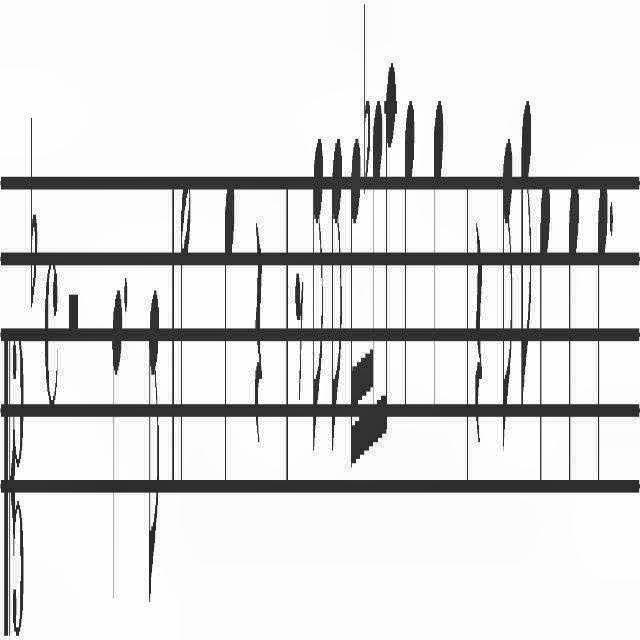Bemol: (29, 106, 38, 318), (362, 6, 370, 208)
Eighth-note: (382, 52, 398, 460), (501, 139, 514, 463), (312, 126, 324, 466), (332, 130, 344, 467), (520, 91, 532, 425), (148, 282, 160, 610)
Eighth-rest: (296, 266, 304, 402)
Half-note: (178, 172, 192, 498)
Quarter-note: (566, 168, 580, 500), (432, 94, 444, 438), (402, 97, 414, 437), (539, 172, 551, 496), (596, 175, 608, 499), (223, 162, 234, 506), (111, 288, 122, 612)
Quarter-rest: (254, 217, 262, 463), (474, 216, 482, 454)
Sixteenth-note: (368, 87, 384, 505), (349, 130, 361, 490)
